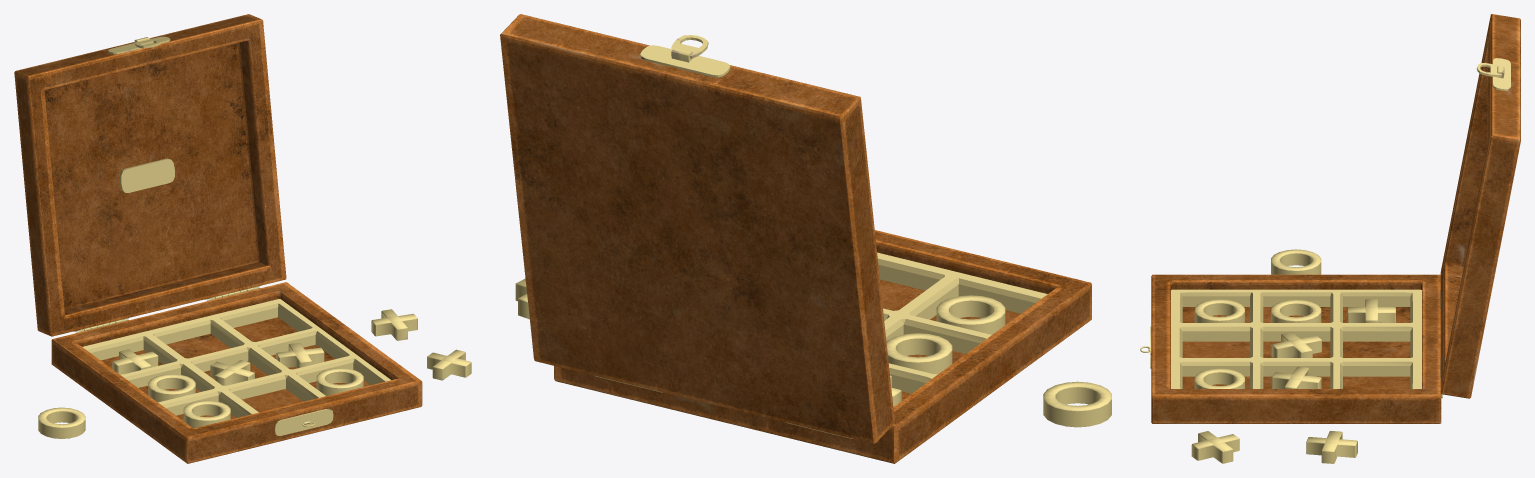
Rendered from tic_tac_toe.glb.
3 views of the same model, side by side, from view 1: azimuth 30°, elevation 25°; view 2: azimuth 150°, elevation 25°; view 3: azimuth 270°, elevation 25° (orthographic). The views are drawn at different scales.
Visible parts, largest first — view 1: g; view 2: g; view 3: g.
Part boxes in pixels (left/top/right/bottom): g: left=14, top=14, right=471, bottom=463; g: left=500, top=14, right=1111, bottom=463; g: left=1140, top=14, right=1520, bottom=463.
Size of the model in its own units: 1.05 by 0.715 by 0.8298.
1 material, 1 textured.
